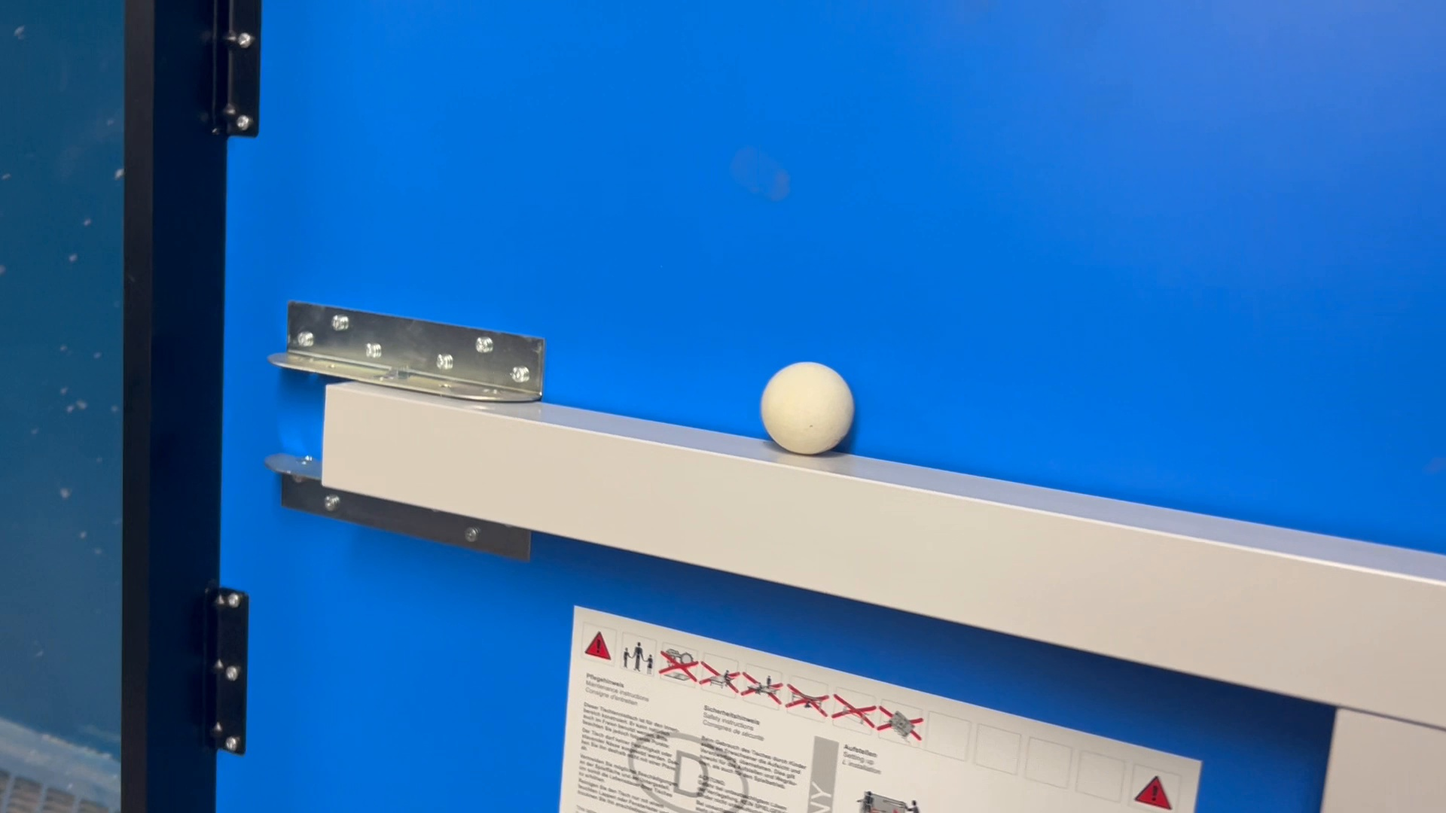Ball: (750, 362, 868, 455)
